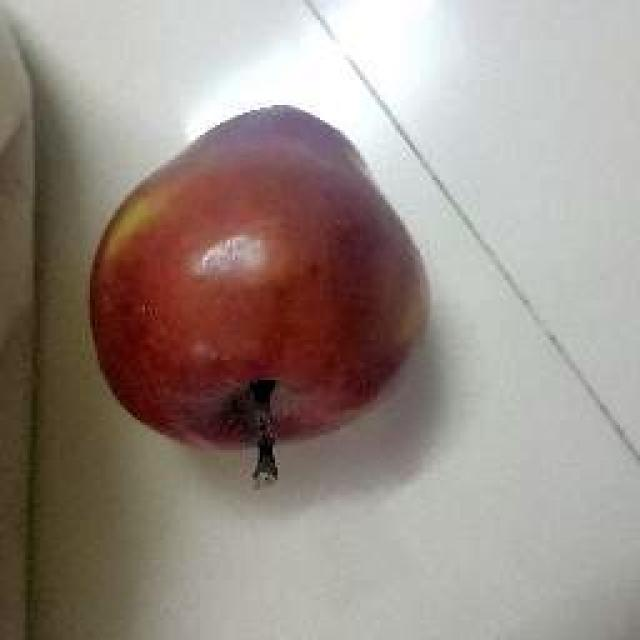Good_Apple: (88, 105, 432, 488)
